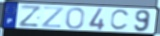4: (88, 7, 107, 32)
9: (133, 10, 152, 33)
C: (109, 9, 131, 32)
O: (65, 7, 86, 30)
Z: (18, 4, 42, 28), (40, 6, 65, 29)
